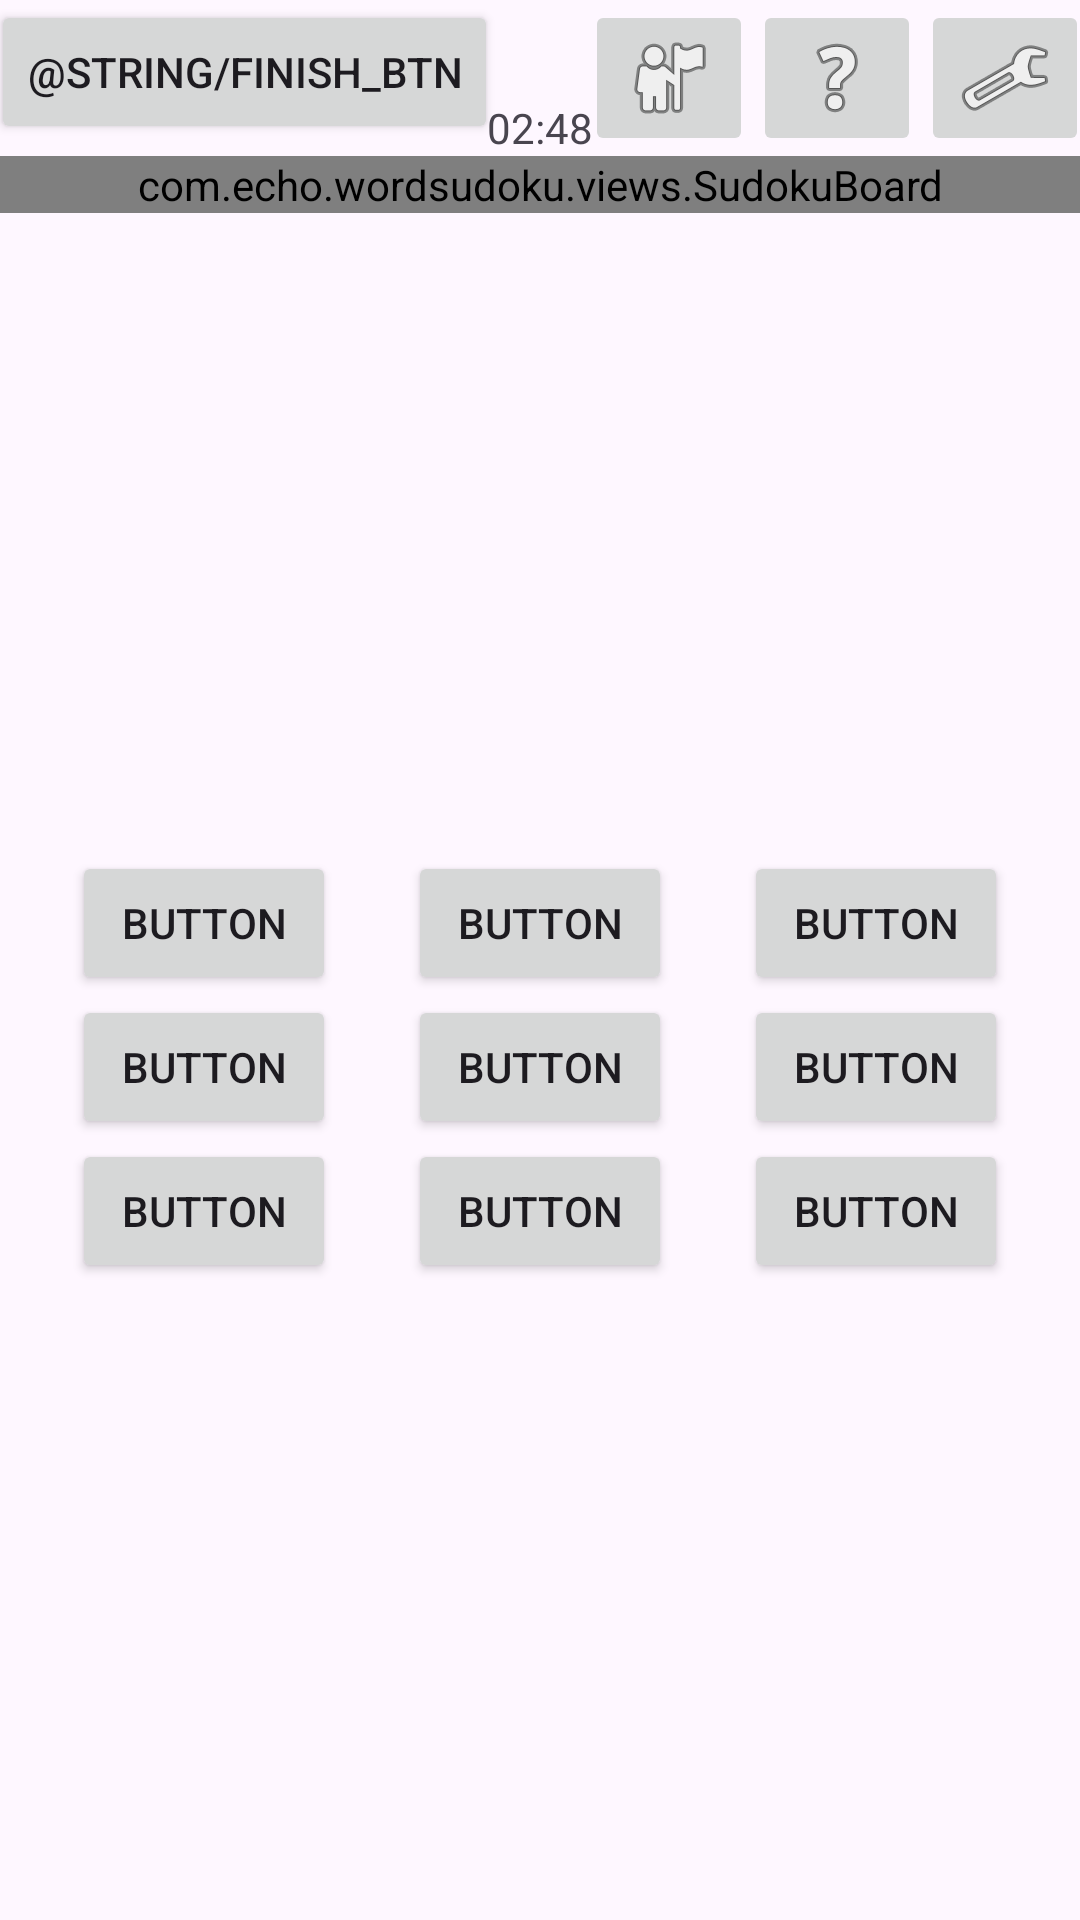

Screen size 1080 × 1920. Icon name, then its box in pixels as (x1, y1, x2, y2):
help: (765, 18, 909, 138)
myplaces: (597, 18, 741, 138)
preferences: (933, 18, 1077, 138)
